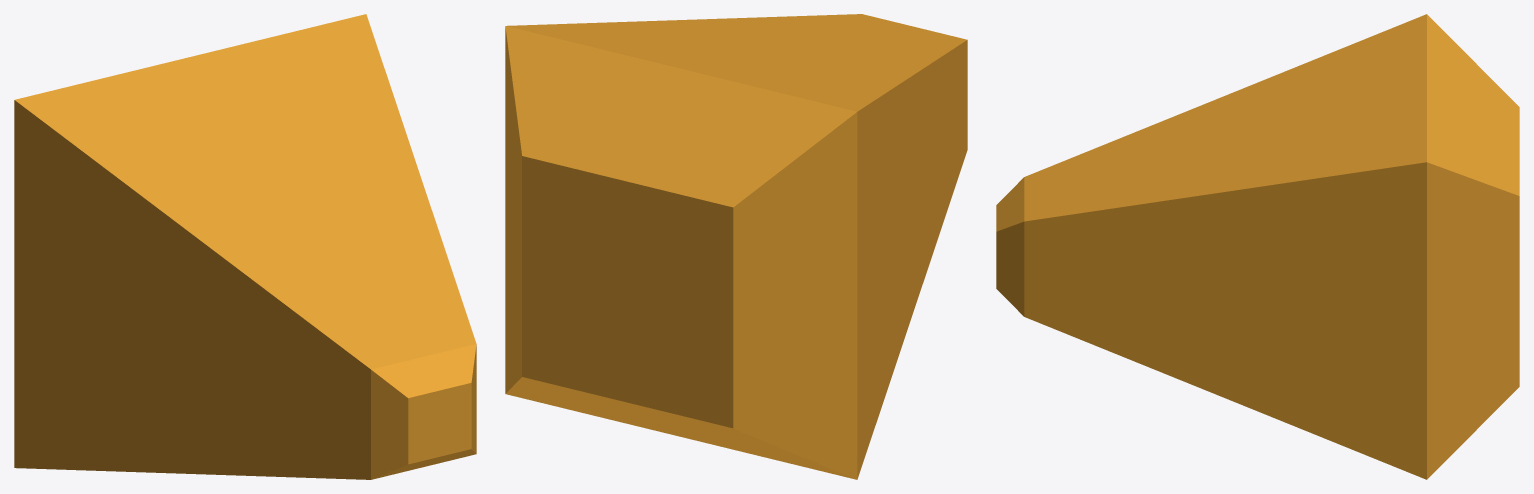
File: tail.fbx
The picture shows the model from 3 angles, left to right: view 1: azimuth 30°, elevation 25°; view 2: azimuth 150°, elevation 25°; view 3: azimuth 270°, elevation 25°; orthographic projection. The views are drawn at different scales.
Visible parts, largest first — view 1: Cube.003; view 2: Cube.003; view 3: Cube.003.
Part boxes in pixels (left/top/right/bottom): Cube.003: left=14, top=14, right=476, bottom=479; Cube.003: left=505, top=14, right=967, bottom=479; Cube.003: left=996, top=14, right=1519, bottom=479.
Bounding box in the file's own units: 80 × 79.97 × 119.
